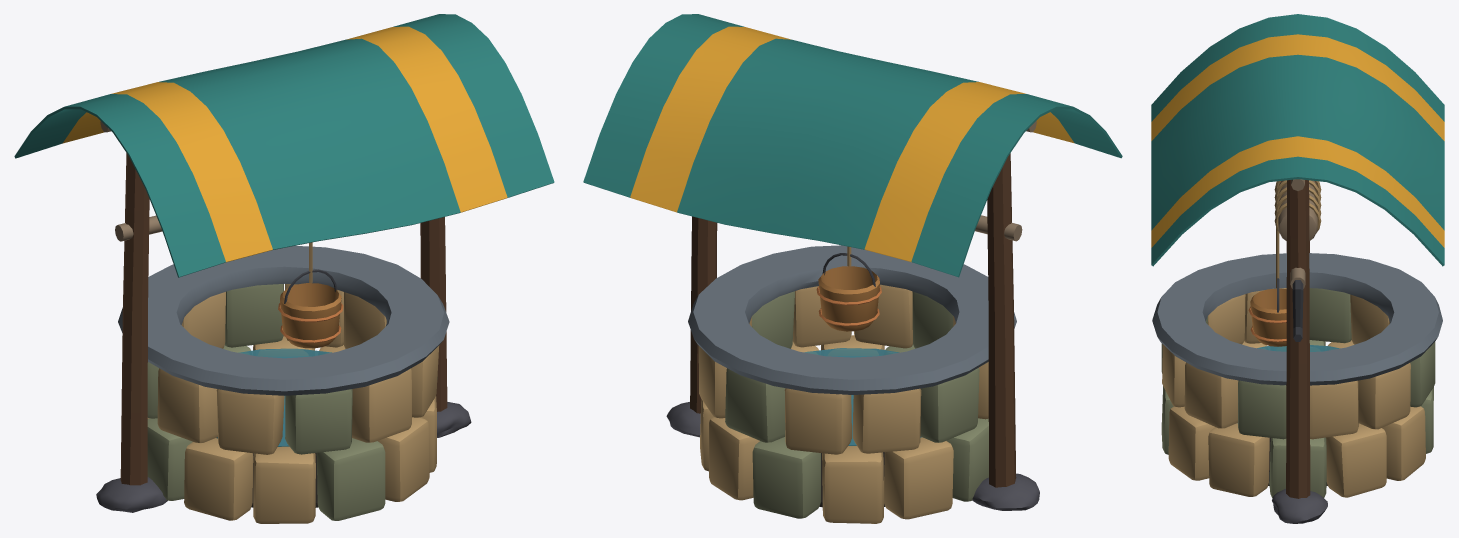
The model's file is deco_water_well_windlass.fbx.
3 views of the same model, side by side, from view 1: azimuth 30°, elevation 25°; view 2: azimuth 150°, elevation 25°; view 3: azimuth 270°, elevation 25° (orthographic). The views are drawn at different scales.
Visible parts, largest first — view 1: WaterWell_Windlass_Canopy, WaterWell_Windlass_Shaft, WaterWell_Windlass_Capstone, WaterWell_Windlass_Posts, WaterWell_Windlass_Bucket, WaterWell_Windlass_Water; view 2: WaterWell_Windlass_Canopy, WaterWell_Windlass_Shaft, WaterWell_Windlass_Capstone, WaterWell_Windlass_Posts, WaterWell_Windlass_Bucket, WaterWell_Windlass_Water; view 3: WaterWell_Windlass_Canopy, WaterWell_Windlass_Shaft, WaterWell_Windlass_Capstone, WaterWell_Windlass_Posts, WaterWell_Windlass_Axle, WaterWell_Windlass_Bucket, WaterWell_Windlass_Water.
Part boxes in pixels (box(x1,y1,x2,y2)): WaterWell_Windlass_Canopy: box(14, 14, 554, 277); WaterWell_Windlass_Shaft: box(147, 284, 439, 523); WaterWell_Windlass_Capstone: box(118, 245, 449, 395); WaterWell_Windlass_Posts: box(96, 153, 471, 512); WaterWell_Windlass_Bucket: box(278, 269, 343, 348); WaterWell_Windlass_Water: box(216, 348, 331, 507); WaterWell_Windlass_Canopy: box(583, 14, 1122, 277); WaterWell_Windlass_Shaft: box(698, 284, 988, 523); WaterWell_Windlass_Capstone: box(688, 245, 1016, 394); WaterWell_Windlass_Posts: box(666, 153, 1039, 510); WaterWell_Windlass_Bucket: box(816, 253, 881, 331); WaterWell_Windlass_Water: box(804, 348, 921, 507); WaterWell_Windlass_Canopy: box(1151, 14, 1444, 266); WaterWell_Windlass_Shaft: box(1161, 288, 1435, 497); WaterWell_Windlass_Capstone: box(1152, 253, 1442, 385); WaterWell_Windlass_Posts: box(1272, 180, 1327, 523); WaterWell_Windlass_Axle: box(1274, 180, 1321, 341); WaterWell_Windlass_Bucket: box(1248, 278, 1286, 346); WaterWell_Windlass_Water: box(1237, 345, 1339, 485).
Size of the model in its own units: 270 by 251 by 190.
